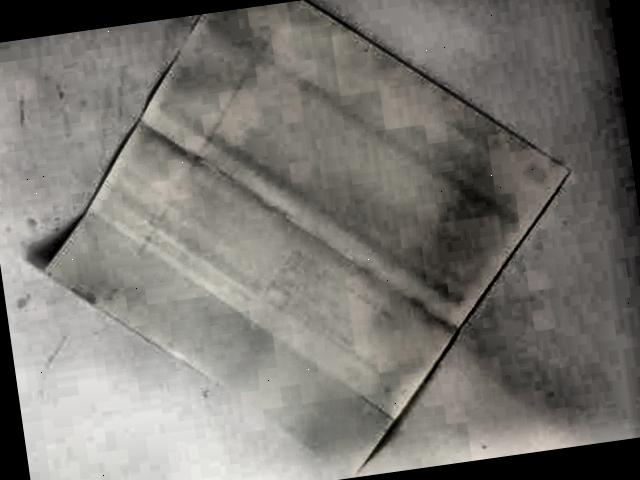Paper: (9, 0, 608, 480)
